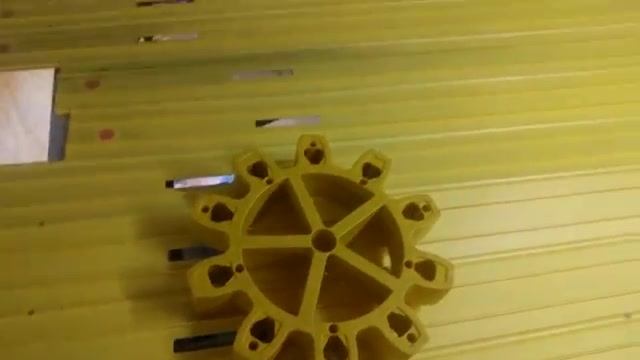gear: (166, 121, 461, 360)
